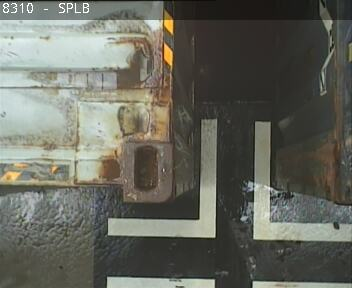groundmarker_1: (108, 120, 352, 242)
